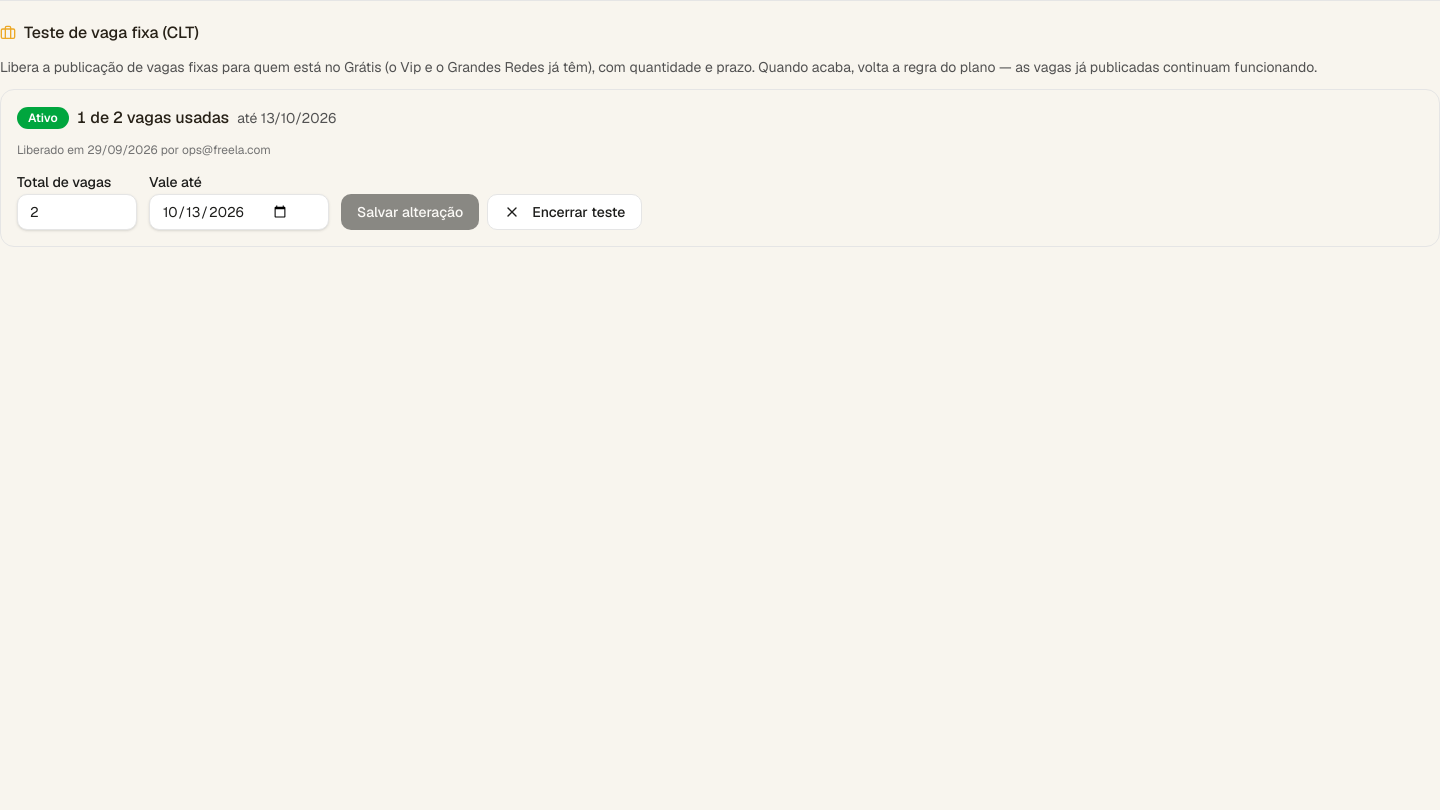
Test: FixedJobTrialSection — encerrar pede confirmação › o clique em 'Encerrar teste' só abre a confirmação; encerra ao confirmar
Click the button "Encerrar teste" at (565, 212), box [487,194,642,230]
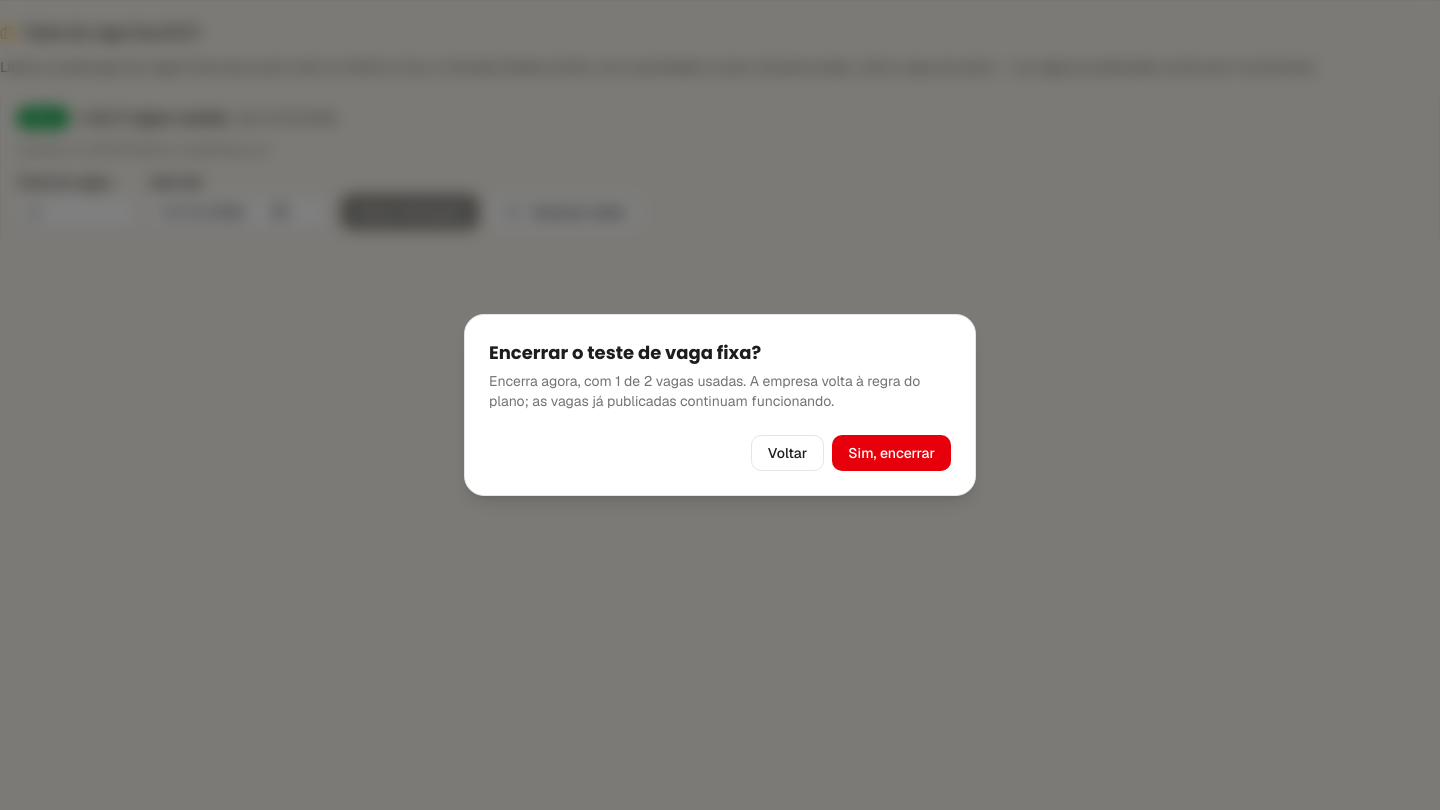
Expected: the heading "Encerrar o teste de vaga fixa?" is shown, [489,340,761,365]
Click the button "Sim, encerrar" at (892, 453), box [832,435,951,471]
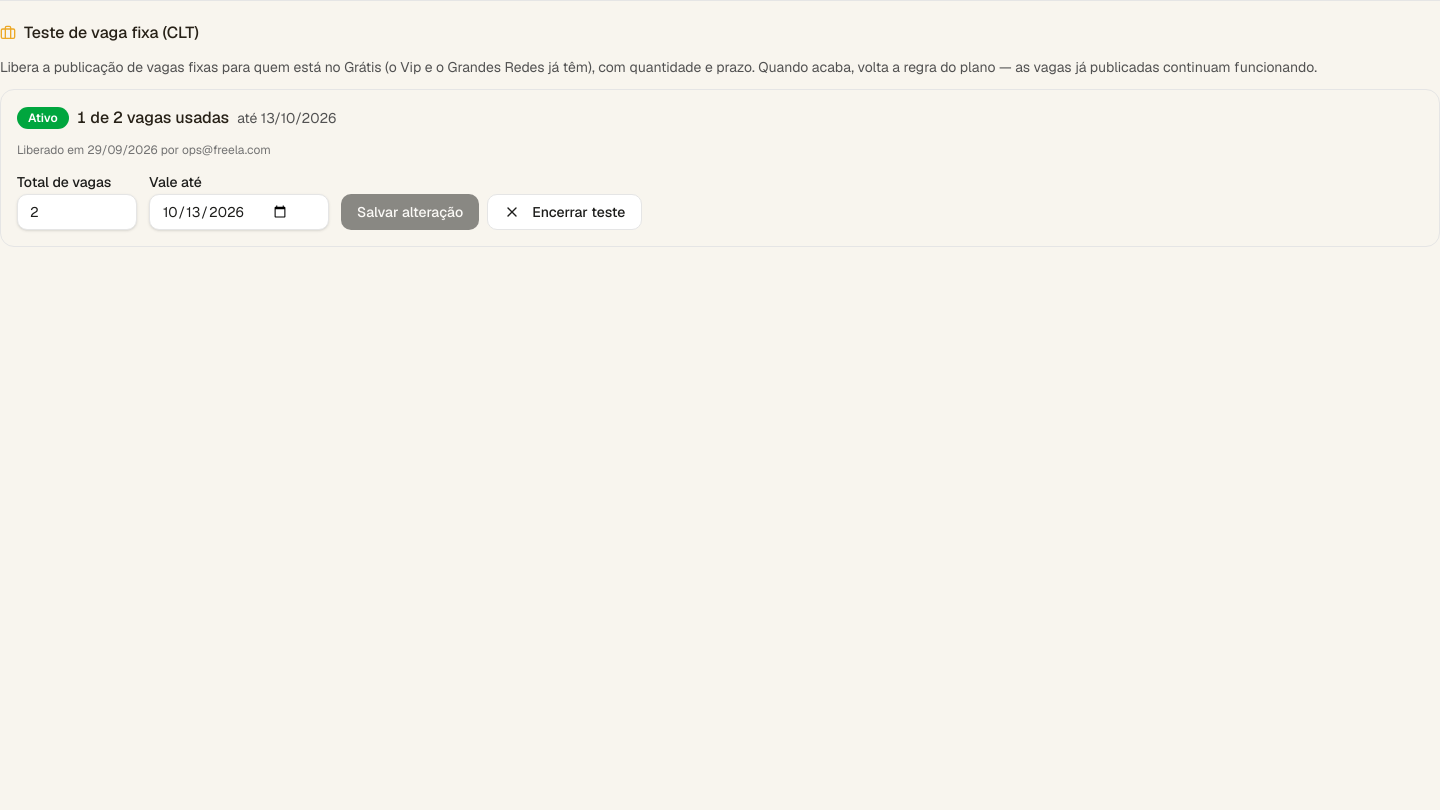
Expected: the heading "Encerrar o teste de vaga fixa?" is gone
